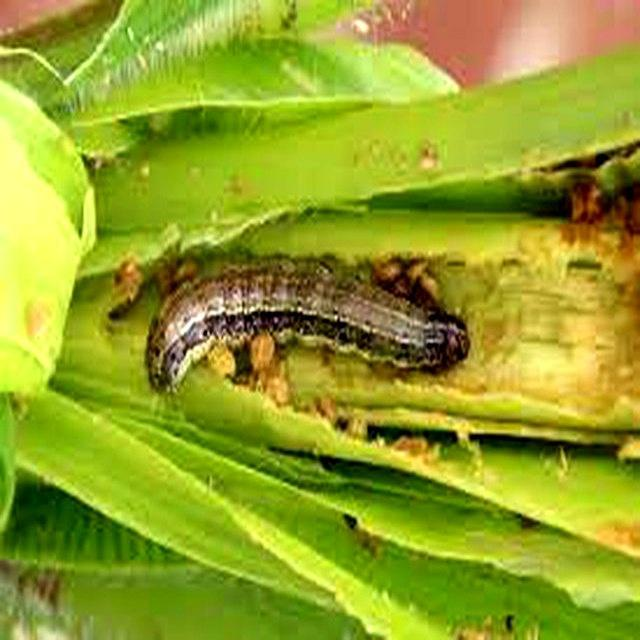Plaga: (143, 255, 478, 400)
